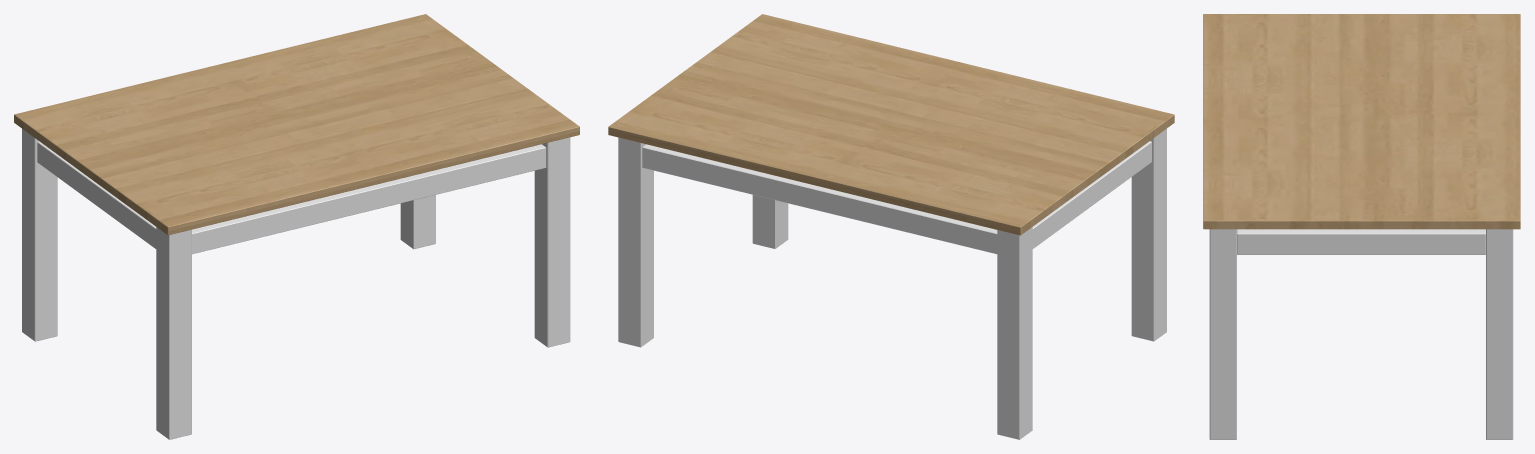
Rendered from by-table.glb.
The picture shows the model from 3 angles, left to right: view 1: azimuth 30°, elevation 25°; view 2: azimuth 150°, elevation 25°; view 3: azimuth 270°, elevation 25°; orthographic projection. The views are drawn at different scales.
Parts seen in each view (by area): view 1: Table-top_Plane.015, Table-Legs_Plane.032, Table-Front-Cross-sections-other_Plane.034, Table-Front-Cross-sections_Plane.033; view 2: Table-top_Plane.015, Table-Legs_Plane.032, Table-Front-Cross-sections-other_Plane.034, Table-Front-Cross-sections_Plane.033; view 3: Table-top_Plane.015, Table-Legs_Plane.032, Table-Front-Cross-sections_Plane.033.
Boxes of the visible parts, x1=… form: Table-top_Plane.015: x1=14, y1=14, x2=579, y2=235; Table-Legs_Plane.032: x1=22, y1=129, x2=570, y2=439; Table-Front-Cross-sections-other_Plane.034: x1=192, y1=144, x2=546, y2=254; Table-Front-Cross-sections_Plane.033: x1=37, y1=141, x2=156, y2=248; Table-top_Plane.015: x1=608, y1=14, x2=1174, y2=235; Table-Legs_Plane.032: x1=618, y1=128, x2=1166, y2=439; Table-Front-Cross-sections-other_Plane.034: x1=642, y1=144, x2=997, y2=254; Table-Front-Cross-sections_Plane.033: x1=1032, y1=141, x2=1151, y2=248; Table-top_Plane.015: x1=1203, y1=14, x2=1520, y2=229; Table-Legs_Plane.032: x1=1209, y1=229, x2=1513, y2=439; Table-Front-Cross-sections_Plane.033: x1=1237, y1=229, x2=1485, y2=254.
Bounding box in the file's own units: 1.44 × 0.724 × 0.934.
Materials: 2 (1 with a texture image).
